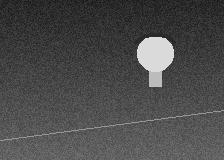no_helmet: (137, 33, 173, 76)
